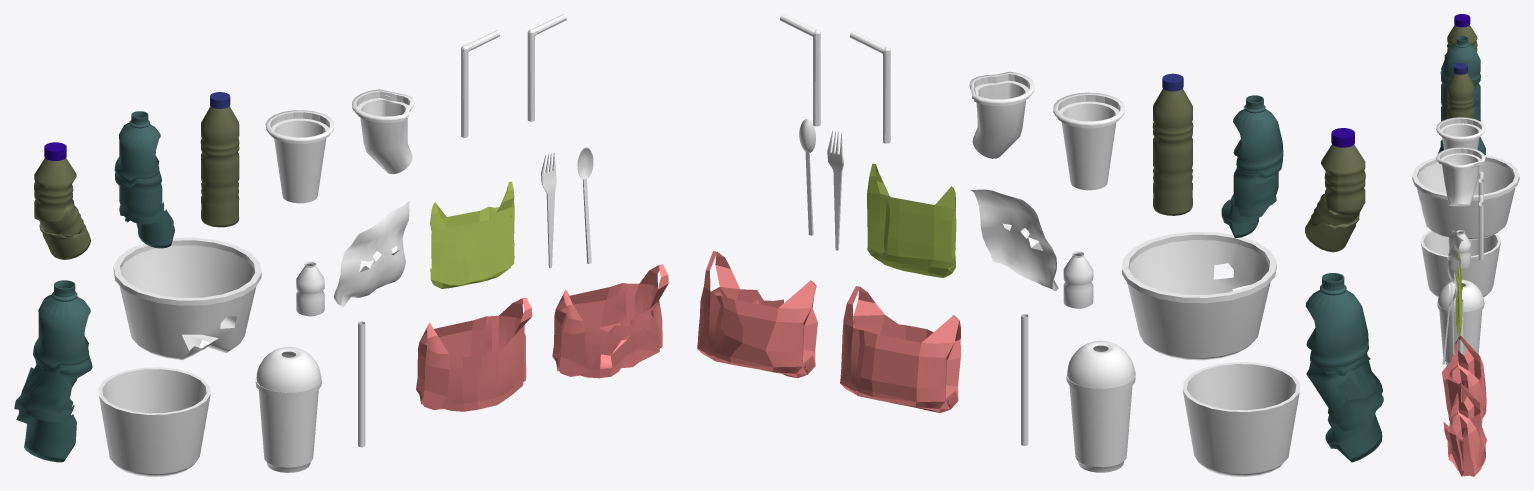
Rendered from uploads_files_2742248_plastic.fbx.
The picture shows the model from 3 angles, left to right: view 1: azimuth 30°, elevation 25°; view 2: azimuth 150°, elevation 25°; view 3: azimuth 270°, elevation 25°; orthographic projection. The views are drawn at different scales.
Parts seen in each view (by area): view 1: bowl5:pCylinder4, bowl:pCylinder4, bag:polySurface1, polySurface8, bottle4:polySurface2pCylinder3, bag:polySurface2, bottle3:polySurface2pCylinder3, cup:pCylinder3, polySurface5, polySurface6, buubleetea_cup:pCylinder4, pPlane1 (+8 smaller); view 2: bowl5:pCylinder4, bowl:pCylinder4, bag:polySurface1, polySurface8, bottle4:polySurface2pCylinder3, bag:polySurface2, bottle3:polySurface2pCylinder3, pPlane1, cup:pCylinder3, polySurface6, buubleetea_cup:pCylinder4, polySurface5 (+8 smaller); view 3: bowl5:pCylinder4, bowl:pCylinder4, polySurface8, bag:polySurface1, pCylinder3, bottle3:polySurface2pCylinder3, buubleetea_cup:pCylinder4, cup:pCylinder3, polySurface5, buubleetea_cup:pSphere1, polySurface6, pPlane1 (+9 smaller).
Part boxes in pixels (box(x1,y1,x2,y2)): bowl5:pCylinder4: box(113, 237, 261, 360); bowl:pCylinder4: box(98, 367, 210, 476); bag:polySurface1: box(416, 297, 532, 411); polySurface8: box(552, 264, 668, 378); bottle4:polySurface2pCylinder3: box(14, 280, 92, 462); bag:polySurface2: box(430, 181, 514, 288); bottle3:polySurface2pCylinder3: box(114, 111, 174, 248); cup:pCylinder3: box(265, 110, 334, 203); polySurface5: box(200, 106, 239, 227); polySurface6: box(34, 142, 90, 259); buubleetea_cup:pCylinder4: box(255, 375, 321, 472); pPlane1: box(334, 200, 409, 307); bowl5:pCylinder4: box(1122, 231, 1276, 360); bowl:pCylinder4: box(1182, 362, 1300, 476); bag:polySurface1: box(840, 286, 960, 412); polySurface8: box(697, 251, 817, 378); bottle4:polySurface2pCylinder3: box(1305, 273, 1383, 462); bag:polySurface2: box(867, 163, 956, 277); bottle3:polySurface2pCylinder3: box(1221, 95, 1283, 237); pPlane1: box(970, 189, 1058, 291); cup:pCylinder3: box(1053, 92, 1124, 190); polySurface6: box(1305, 128, 1365, 252); buubleetea_cup:pCylinder4: box(1066, 370, 1135, 472); polySurface5: box(1152, 89, 1193, 215); bowl5:pCylinder4: box(1412, 155, 1519, 239); bowl:pCylinder4: box(1420, 230, 1500, 297); polySurface8: box(1443, 383, 1486, 476); bag:polySurface1: box(1442, 335, 1486, 421); pCylinder3: box(1436, 147, 1485, 206); bottle3:polySurface2pCylinder3: box(1440, 35, 1480, 121); buubleetea_cup:pCylinder4: box(1437, 300, 1484, 364); cup:pCylinder3: box(1436, 117, 1485, 149); polySurface5: box(1447, 73, 1474, 118); buubleetea_cup:pSphere1: box(1437, 279, 1483, 311); polySurface6: box(1447, 14, 1477, 51); pPlane1: box(1447, 230, 1463, 283).
Size of the model in its own units: 113 by 64.43 by 22.99.
